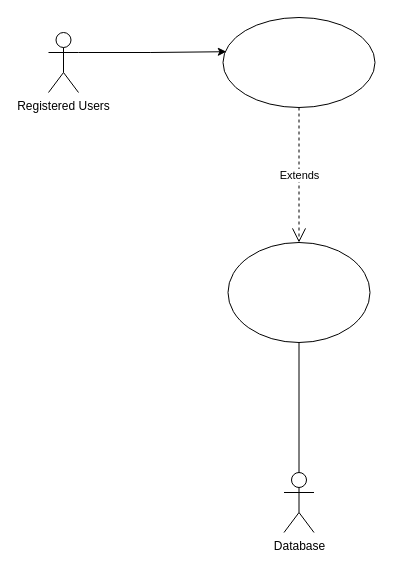
Image size: 393x571. Some labels were removed from this diagram. Here are the shapes that lost their labels. From the top down, the centre of each, then its label:
(x=298, y=62): Order Product (Payment)
(x=298, y=292): Backend Application (Order Product)
